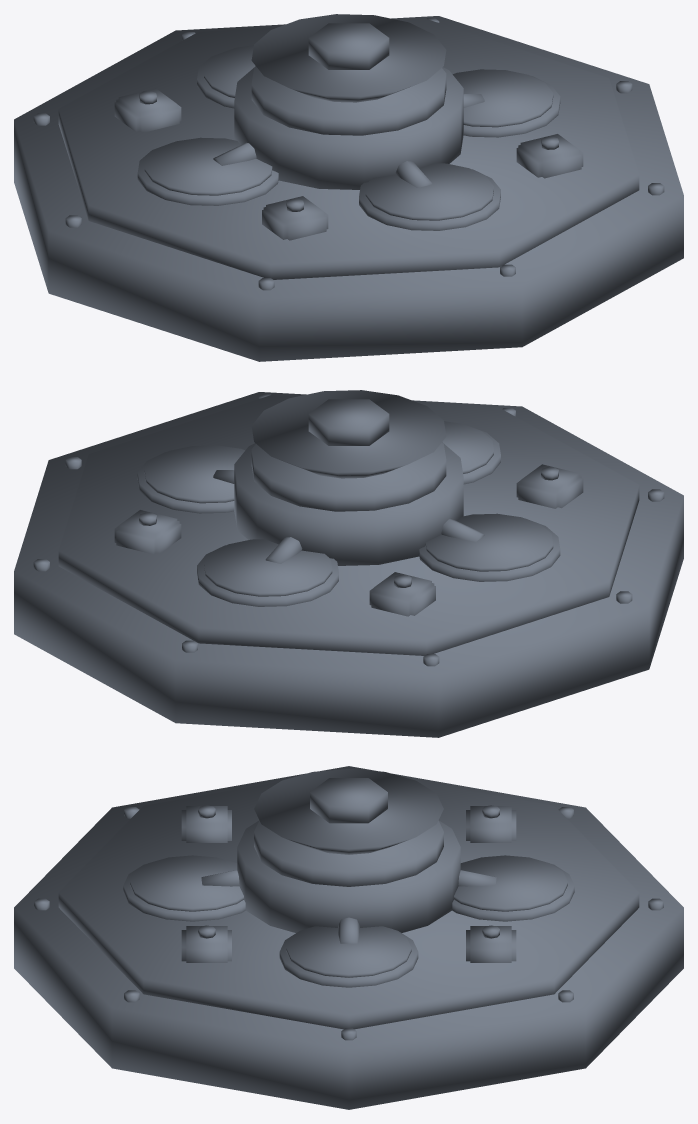
The model's file is repair_array_mount.glb.
3 renders of one model, top to bottom at view 1: azimuth 30°, elevation 25°; view 2: azimuth 150°, elevation 25°; view 3: azimuth 270°, elevation 25°, orthographic. The views are drawn at different scales.
Parts seen in each view (by area): view 1: repair_array_mount; view 2: repair_array_mount; view 3: repair_array_mount.
Boxes of the visible parts, x1,y1,x2,y2 form: repair_array_mount: (14,14,683,361); repair_array_mount: (14,390,683,737); repair_array_mount: (14,766,683,1109).
Bounding box in the file's own units: 0.6 × 0.174 × 0.6.
